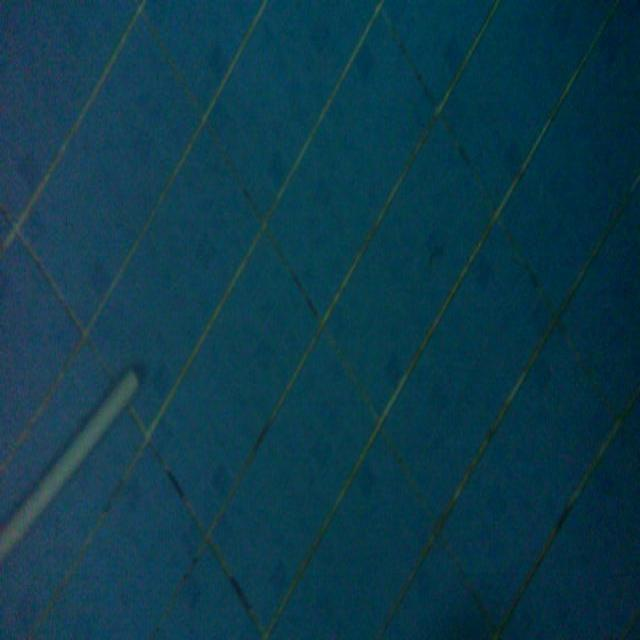Cube: (0, 358, 144, 572)
